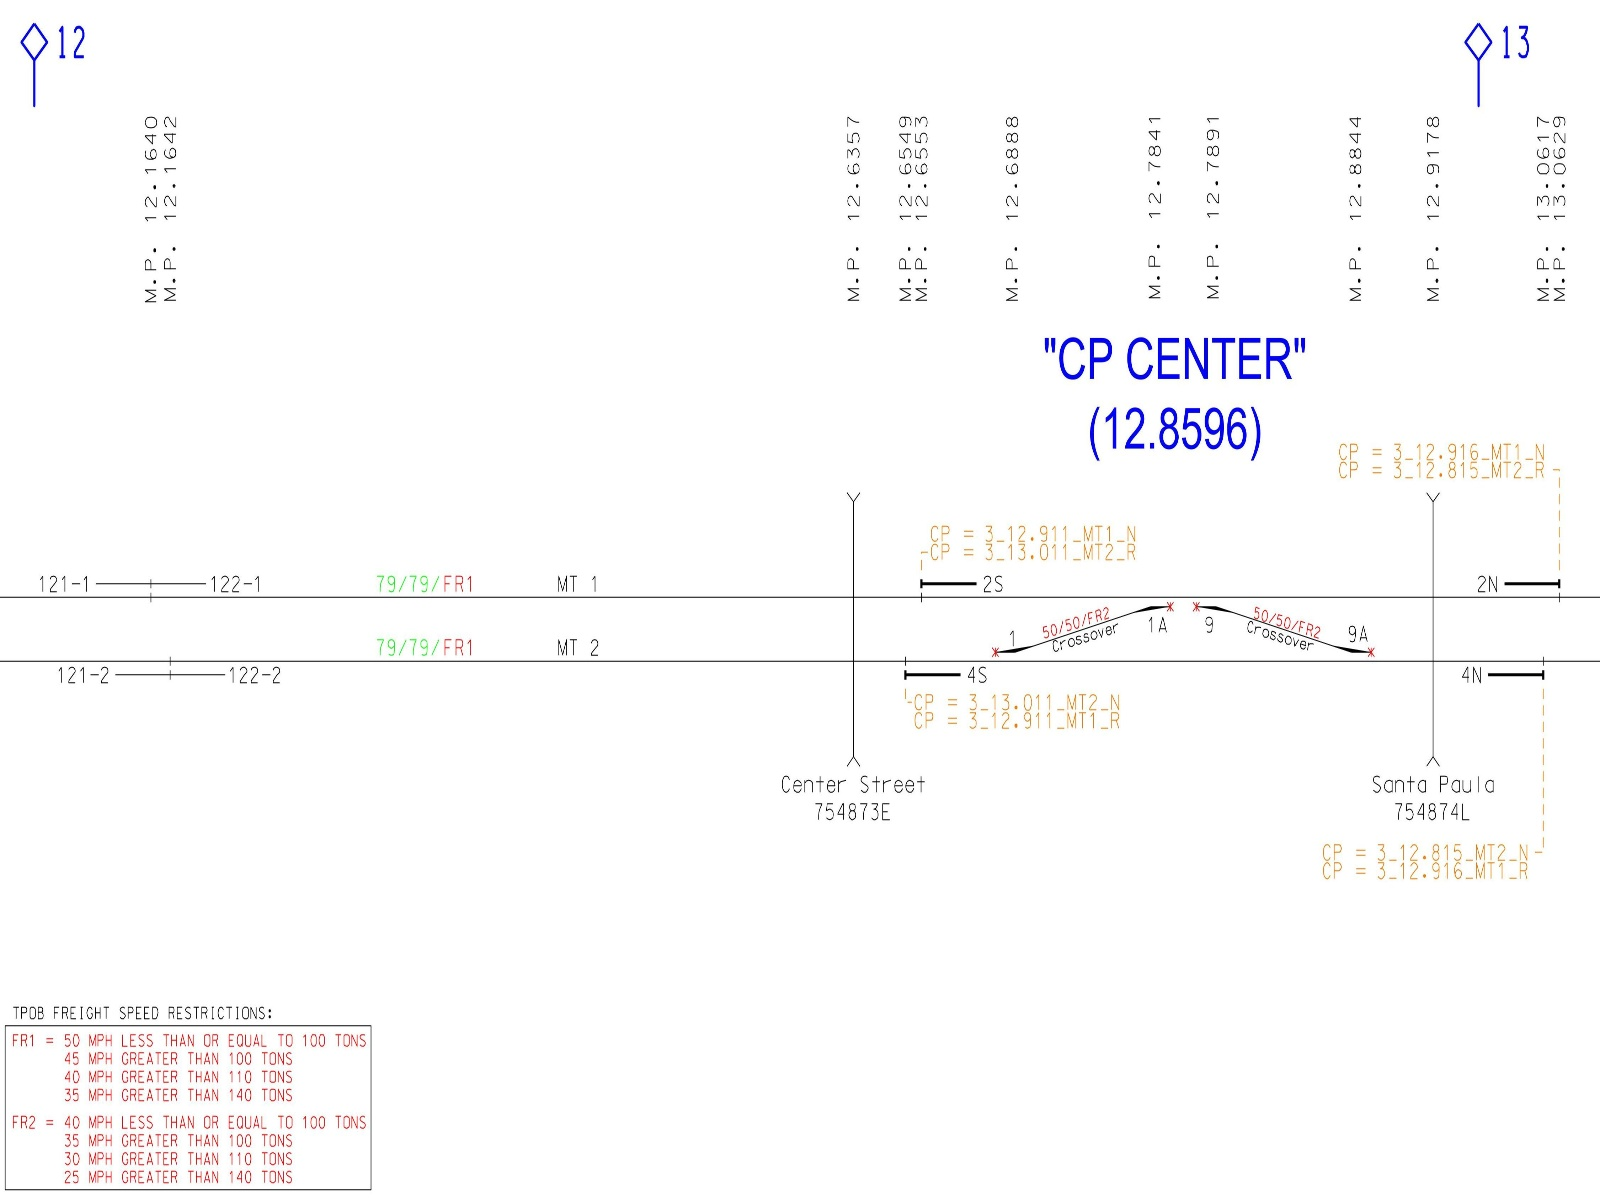crossover: (818, 478, 892, 775), (1396, 475, 1470, 771)
crossoverLabel: (774, 771, 936, 839), (1348, 768, 1511, 836)
leftsignal: (910, 566, 1014, 605), (896, 657, 1000, 696)
milepost: (1191, 91, 1288, 319), (1495, 93, 1592, 321), (112, 100, 208, 328), (989, 95, 1085, 323), (1092, 92, 1188, 320), (792, 95, 888, 321), (889, 95, 985, 321), (1295, 89, 1391, 316), (1397, 89, 1493, 316)
rightsignal: (1473, 568, 1577, 608), (1456, 654, 1561, 693)
switch: (984, 616, 1036, 671), (1186, 584, 1237, 637), (1330, 616, 1381, 671), (1136, 591, 1187, 644)
